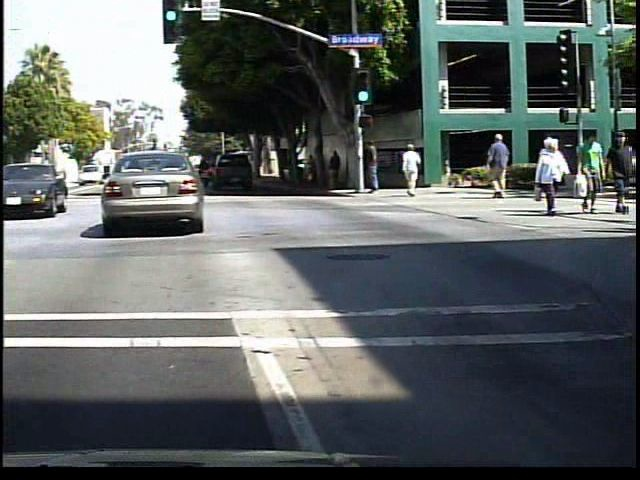person: (535, 137, 576, 217), (578, 131, 611, 216), (611, 128, 637, 214), (487, 135, 520, 200), (402, 140, 427, 199), (367, 137, 388, 200), (332, 146, 351, 191), (311, 151, 326, 190)
